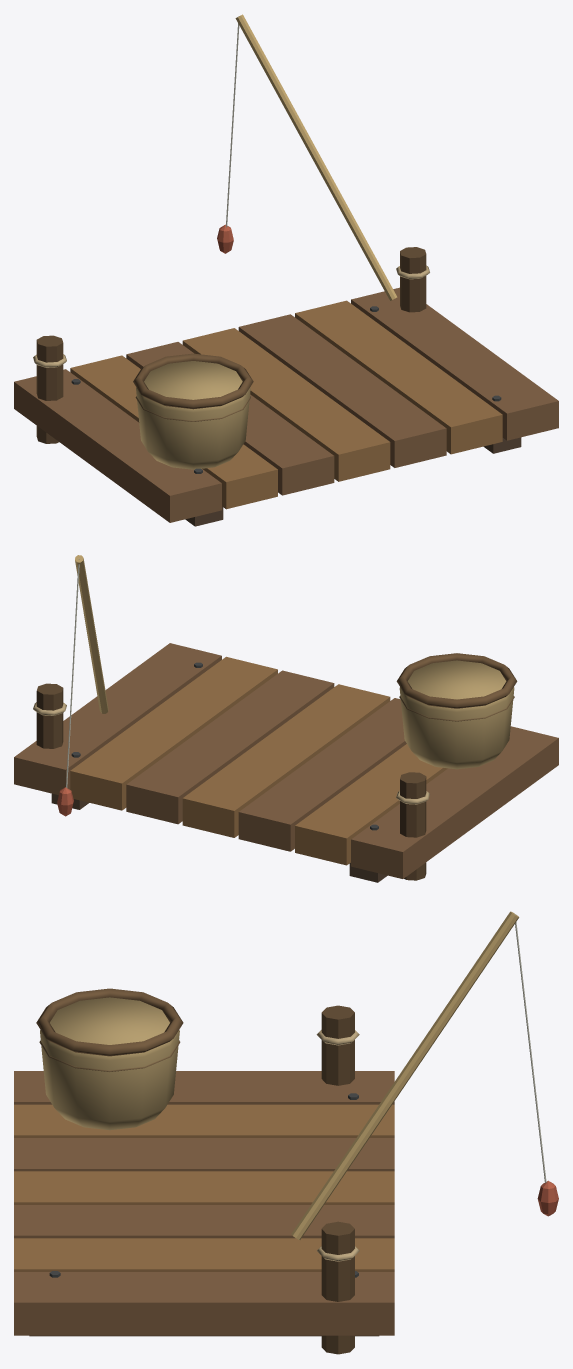
Rendered from Fishing_Bank.fbx.
3 views of the same model, one above another, from view 1: azimuth 30°, elevation 25°; view 2: azimuth 150°, elevation 25°; view 3: azimuth 270°, elevation 25° (orthographic). The views are drawn at different scales.
Visible parts, largest first — view 1: Fishing_Bank; view 2: Fishing_Bank; view 3: Fishing_Bank.
Part boxes in pixels (x1=…): Fishing_Bank: x1=14, y1=14, x2=558, y2=526; Fishing_Bank: x1=14, y1=555, x2=558, y2=882; Fishing_Bank: x1=14, y1=911, x2=558, y2=1354.
Bounding box in the file's own units: 182 × 136 × 179.
